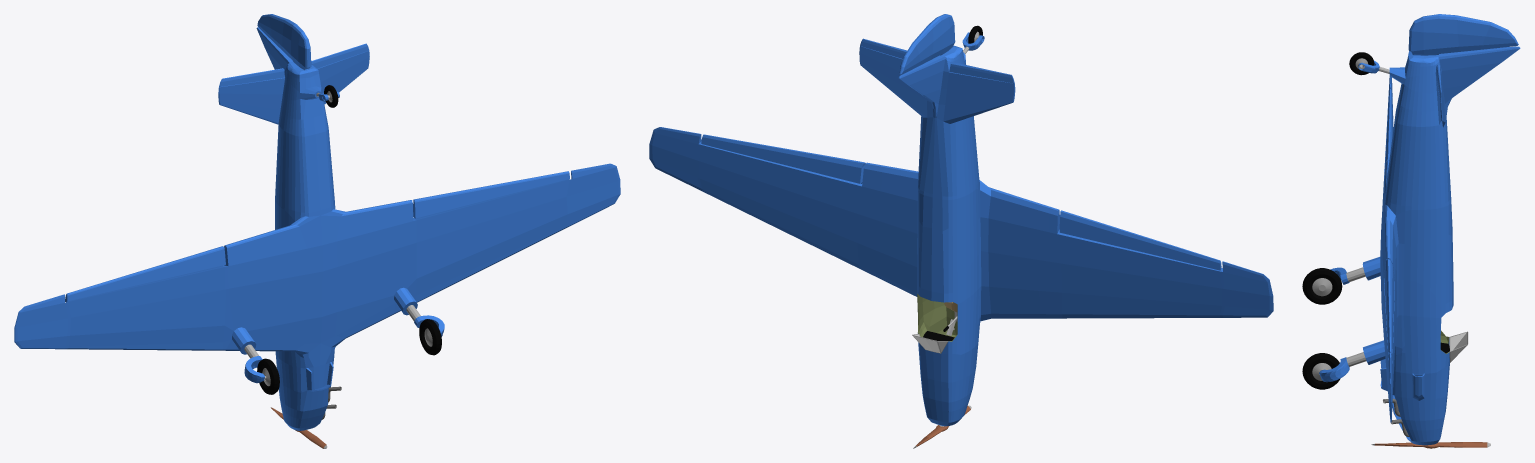
3 views of the same model, side by side, from view 1: azimuth 30°, elevation 25°; view 2: azimuth 150°, elevation 25°; view 3: azimuth 270°, elevation 25° (orthographic). The views are drawn at different scales.
Parts seen in each view (by area): view 1: Plane, Wing_L, Wing_R, Back_rudder, Wing_Back_L; view 2: Plane, Wing_L, Wing_R, Back_rudder, Wing_Back_L; view 3: Plane, Back_rudder, Wing_R, Propeller, Wing_L, Pane.
Part boxes in pixels (x1,y1,x2,y2): Plane: [14, 27, 620, 430]; Wing_L: [65, 246, 225, 302]; Wing_R: [413, 171, 569, 219]; Back_rudder: [257, 14, 311, 70]; Wing_Back_L: [219, 68, 284, 86]; Plane: [649, 25, 1273, 426]; Wing_L: [1059, 210, 1221, 270]; Wing_R: [701, 134, 865, 183]; Back_rudder: [899, 14, 955, 74]; Wing_Back_L: [949, 62, 1014, 83]; Plane: [1302, 46, 1520, 445]; Back_rudder: [1408, 14, 1518, 55]; Wing_R: [1384, 259, 1394, 360]; Propeller: [1371, 442, 1490, 448]; Wing_L: [1384, 88, 1393, 175]; Pane: [1450, 332, 1467, 361].
Size of the model in its own units: 1674 by 5766 by 3680.
